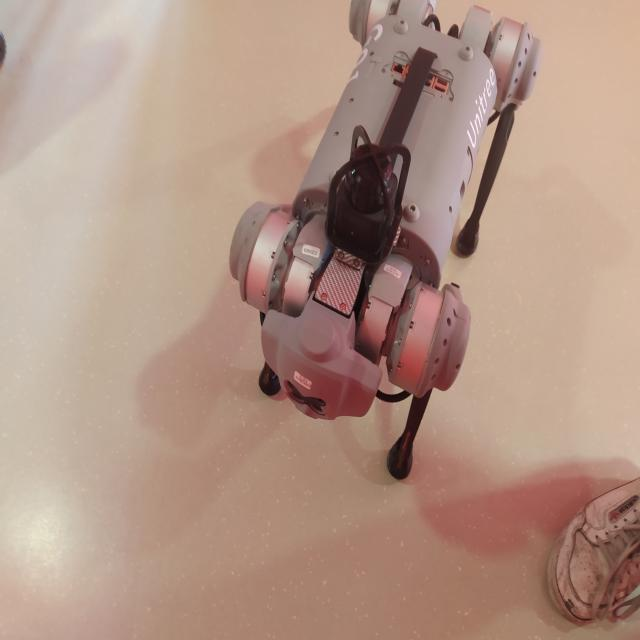unitree-go1-robot: (218, 0, 548, 494)
